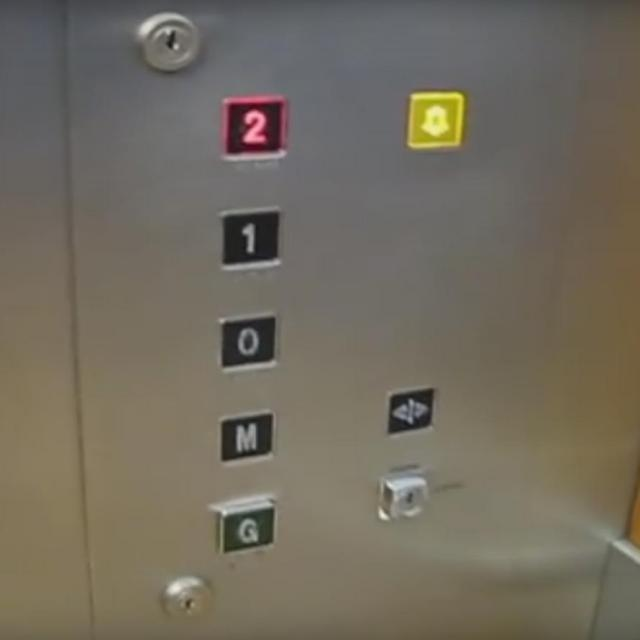0: (210, 306, 280, 377)
1: (211, 203, 287, 275)
2: (215, 92, 294, 166)
G: (206, 492, 282, 560)
M: (212, 404, 280, 471)
alarm: (401, 86, 466, 153)
keyhole: (128, 8, 205, 78), (374, 470, 432, 526), (156, 570, 213, 626)
open: (382, 382, 437, 441)
